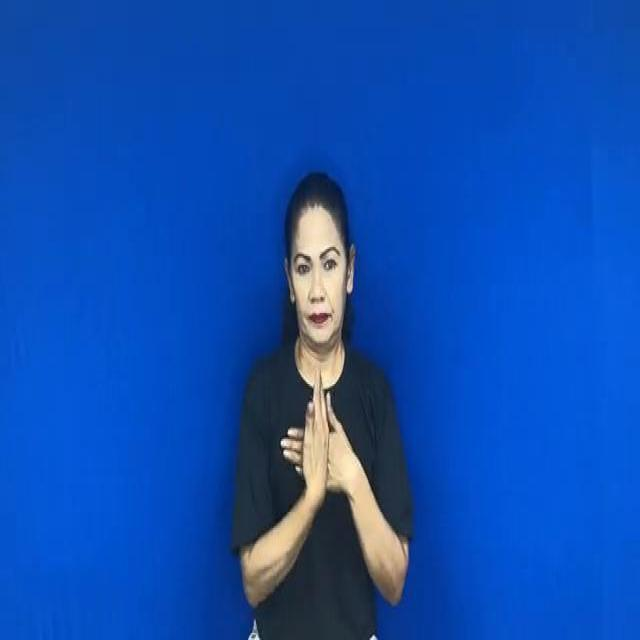bread: (282, 362, 358, 520)
